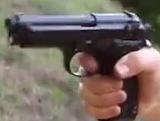gun: (1, 1, 160, 121)
